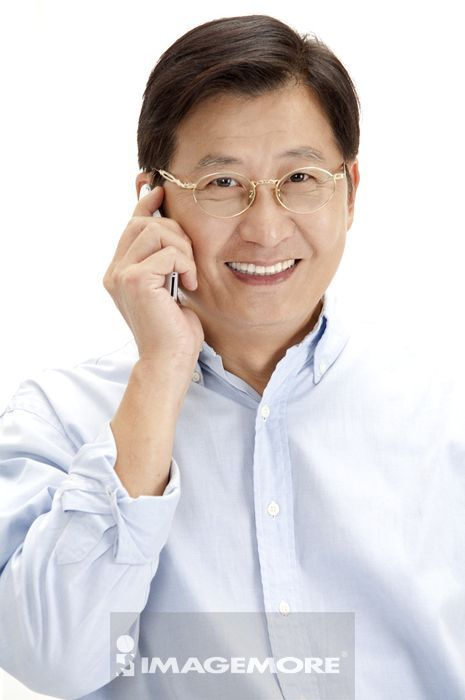phone: (135, 176, 181, 302)
talk: (102, 148, 344, 386)
